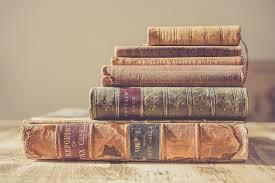Paper: (20, 10, 275, 182)
